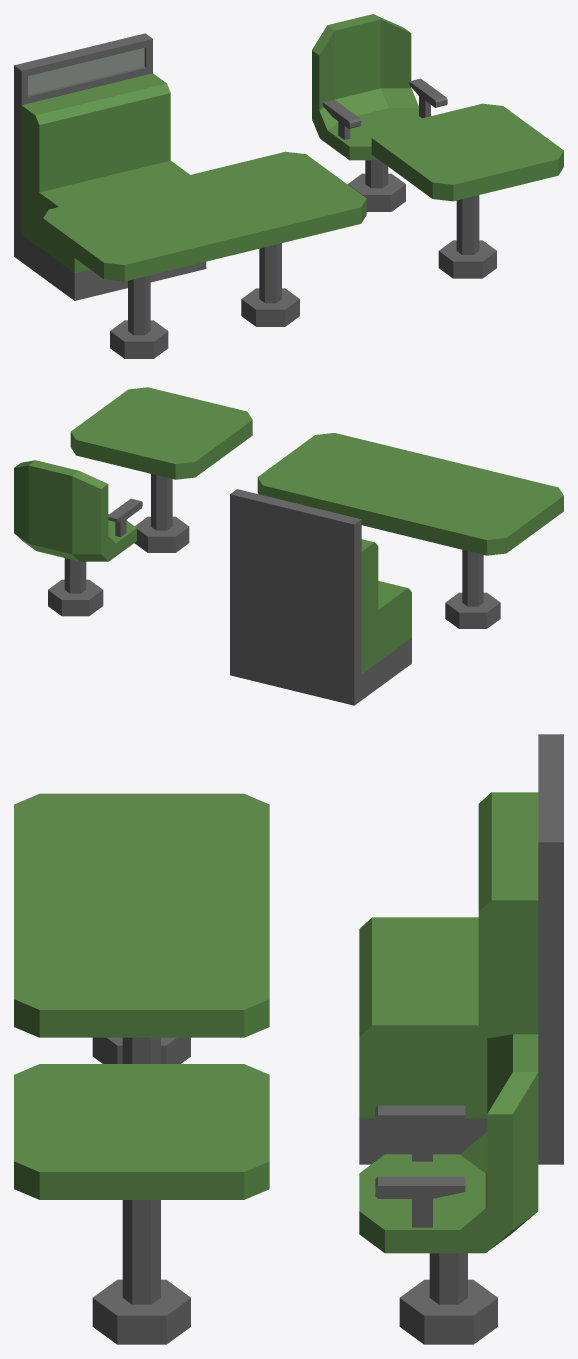
File: Seating05.fbx
3 views of the same model, one above another, from view 1: azimuth 30°, elevation 25°; view 2: azimuth 150°, elevation 25°; view 3: azimuth 270°, elevation 25° (orthographic). The views are drawn at different scales.
Visible parts, largest first — view 1: Table_Long, Sofa, Table, Chair; view 2: Sofa, Table_Long, Table, Chair; view 3: Table_Long, Sofa, Table, Chair.
Boxes of the visible parts, x1,y1,x2,y2 form: Table_Long: (43, 151, 366, 358); Sofa: (14, 33, 206, 300); Table: (371, 103, 563, 278); Chair: (312, 14, 447, 211); Sofa: (230, 489, 411, 705); Table_Long: (257, 433, 563, 628); Table: (70, 387, 252, 552); Chair: (14, 460, 142, 616); Table_Long: (14, 793, 269, 1063); Sofa: (359, 734, 563, 1164); Table: (14, 1064, 269, 1344); Chair: (359, 1034, 538, 1344).
Bounding box in the file's own units: 3.5 × 1.39 × 2.15.
Materials: 1 (1 with a texture image).
